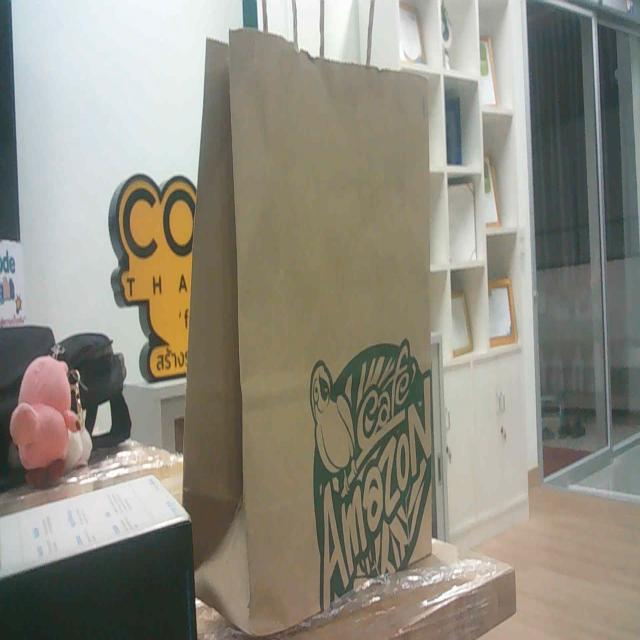bag: (176, 0, 470, 640)
